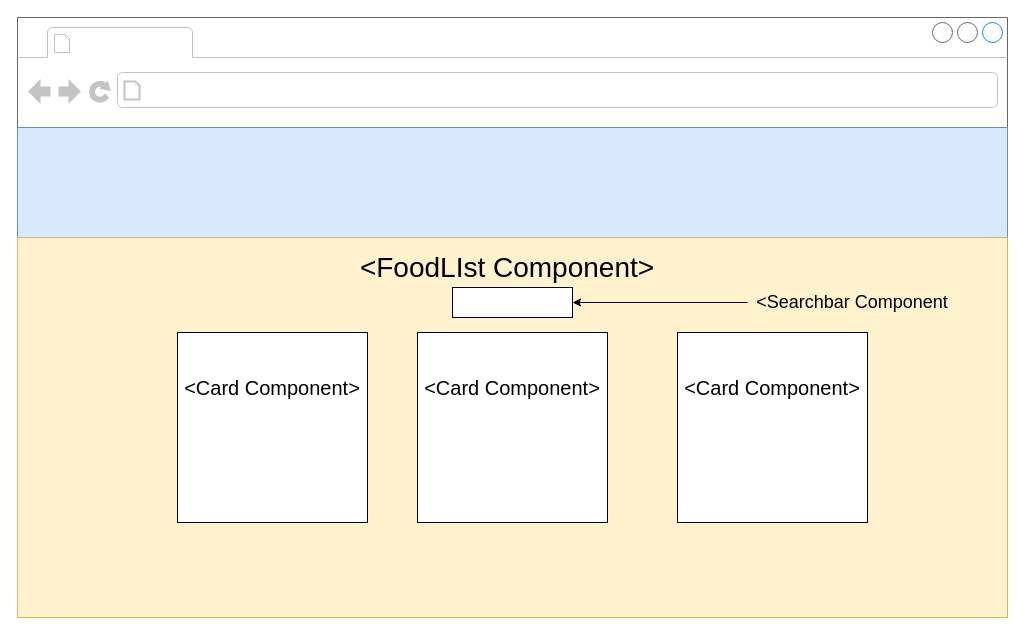
Image size: 1025x635. Some labels were removed from this diagram. The shapes that lost their labels are listed below. From the top down, each one's centre as x and y in pixels, then its label:
the point at 132,42: Page 1
the point at 512,182: <Header Component>
